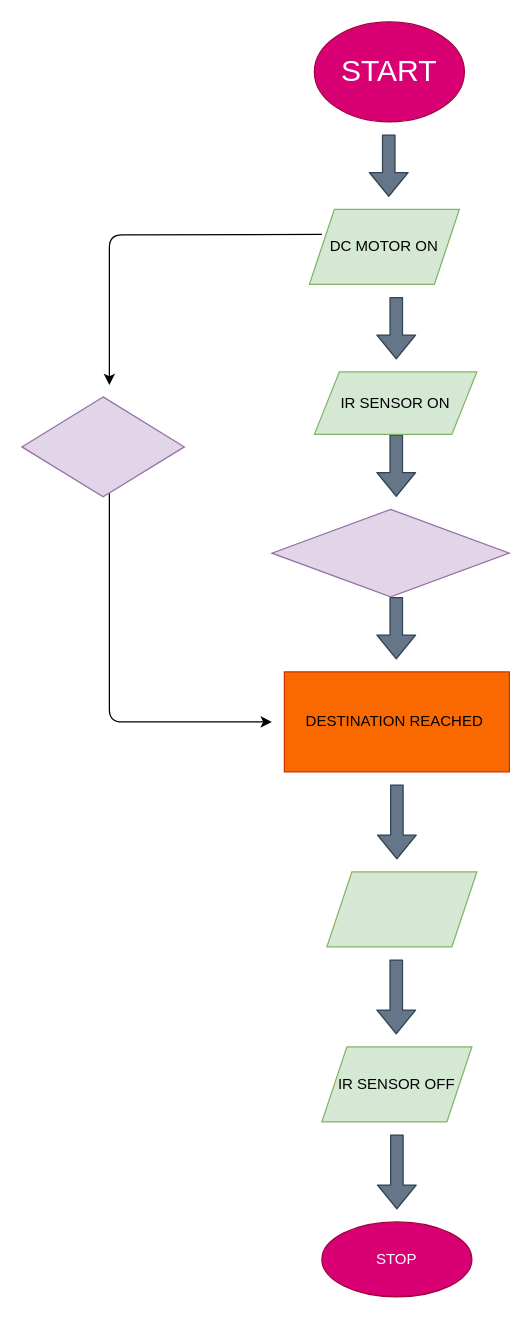
The diagram is 531 pixels wide and 1319 high, and some of its shapes have lost their labels. Each missing label, with the box of its shape:
DC MOTOR OFF: (326, 871, 477, 947)
GEAR STARTS MOVING: (21, 396, 184, 497)
MEASURE DISTANCE TO TRAVEL: (271, 508, 509, 597)
